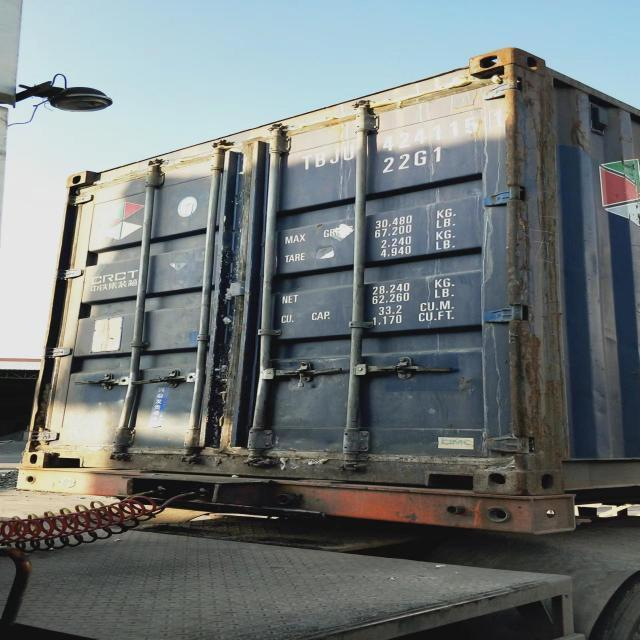ISO: (381, 145, 449, 173)
container_number: (294, 113, 480, 173)
